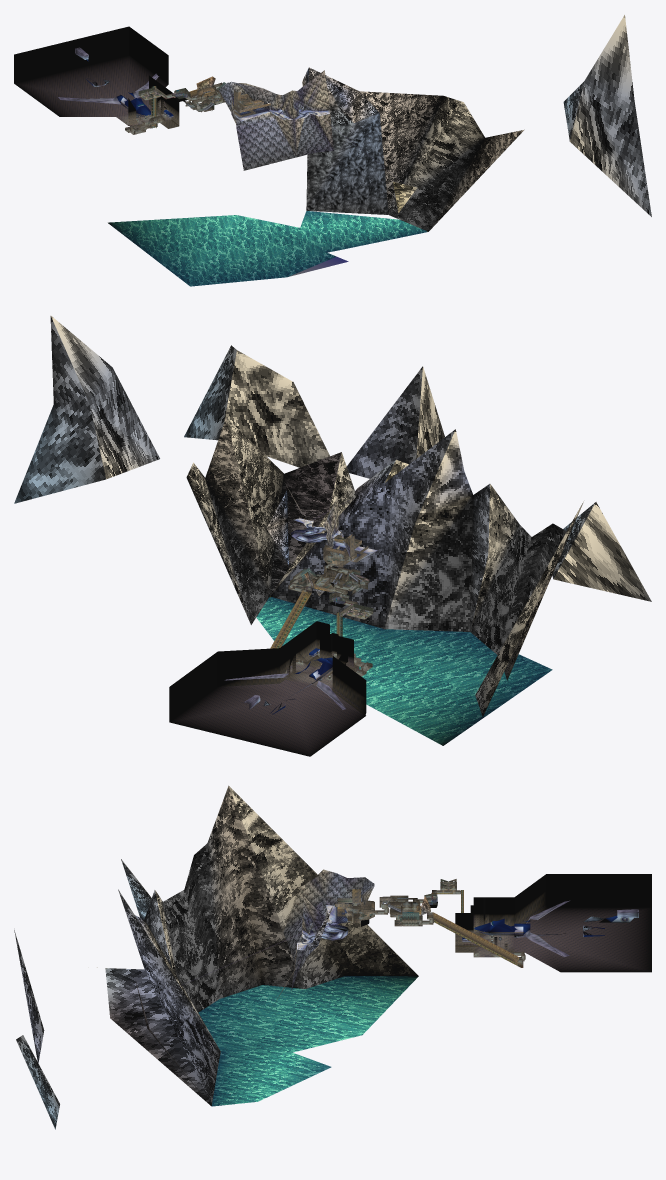
Rendered from AirBaseEspionage.glb.
3 views of the same model, one above another, from view 1: azimuth 30°, elevation 25°; view 2: azimuth 150°, elevation 25°; view 3: azimuth 270°, elevation 25° (orthographic). The views are drawn at different scales.
Parts seen in each view (by area): view 1: AirBaseEspionage_71, AirBaseEspionage_78, AirBaseEspionage_3, AirBaseEspionage_75, AirBaseEspionage_0, AirBaseEspionage_39; view 2: AirBaseEspionage_71, AirBaseEspionage_3, AirBaseEspionage_78, AirBaseEspionage_0, AirBaseEspionage_5; view 3: AirBaseEspionage_71, AirBaseEspionage_78, AirBaseEspionage_3, AirBaseEspionage_75, AirBaseEspionage_0, AirBaseEspionage_39, AirBaseEspionage_5, AirBaseEspionage_24.
Part boxes in pixels (left/top/right/bottom): AirBaseEspionage_71: left=196, top=15, right=651, bottom=231; AirBaseEspionage_78: left=108, top=211, right=428, bottom=286; AirBaseEspionage_3: left=14, top=26, right=270, bottom=134; AirBaseEspionage_75: left=218, top=70, right=333, bottom=170; AirBaseEspionage_0: left=125, top=87, right=262, bottom=131; AirBaseEspionage_39: left=58, top=47, right=158, bottom=116; AirBaseEspionage_71: left=14, top=315, right=651, bottom=716; AirBaseEspionage_3: left=169, top=534, right=372, bottom=756; AirBaseEspionage_78: left=256, top=597, right=552, bottom=745; AirBaseEspionage_0: left=270, top=536, right=373, bottom=676; AirBaseEspionage_5: left=288, top=551, right=367, bottom=684; AirBaseEspionage_71: left=14, top=785, right=430, bottom=1129; AirBaseEspionage_78: left=198, top=976, right=418, bottom=1106; AirBaseEspionage_3: left=335, top=874, right=651, bottom=972; AirBaseEspionage_75: left=283, top=869, right=374, bottom=990; AirBaseEspionage_0: left=337, top=881, right=523, bottom=967; AirBaseEspionage_39: left=490, top=900, right=638, bottom=957; AirBaseEspionage_5: left=337, top=882, right=524, bottom=961; AirBaseEspionage_24: left=462, top=915, right=617, bottom=939.
Bounding box in the file's own units: 6297 × 2269 × 6378.
84 materials, 84 textured.
